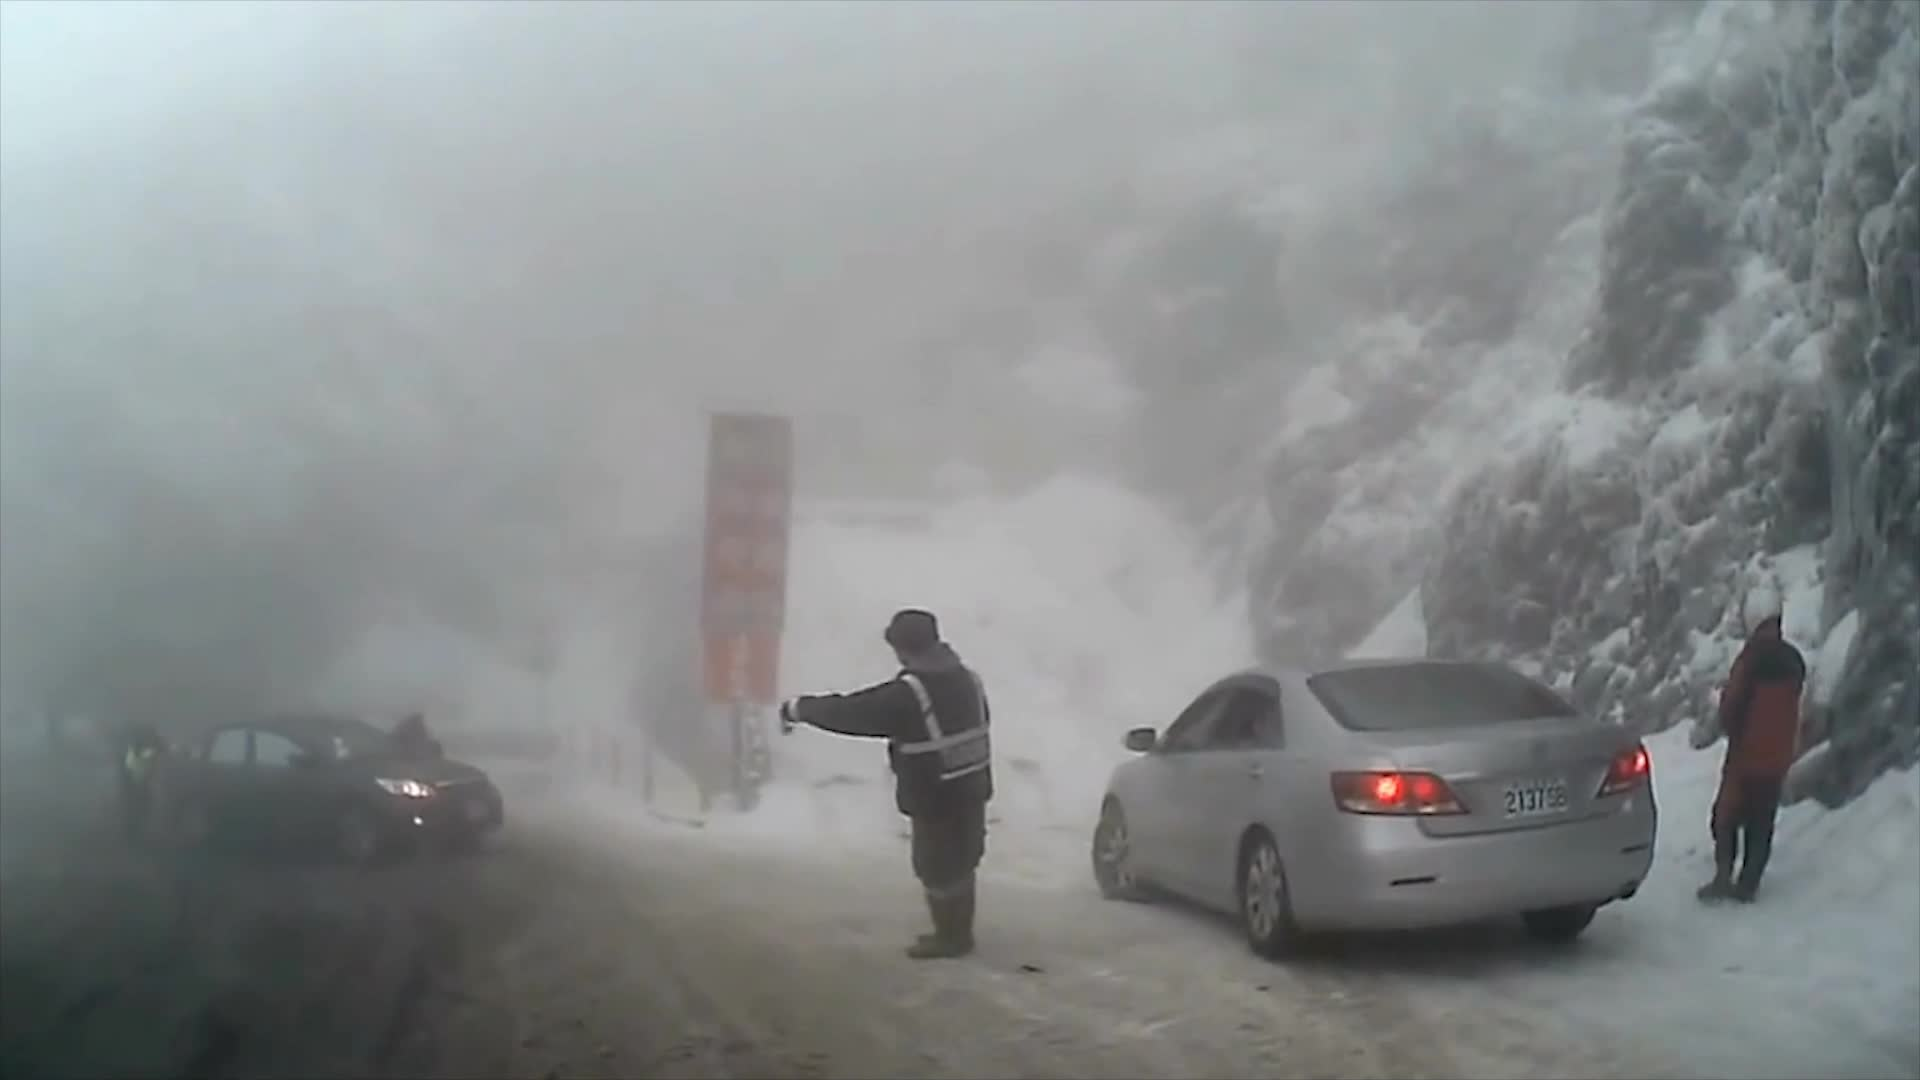pedestrian: (781, 598, 999, 946), (1699, 587, 1809, 905)
vehicle: (1087, 654, 1655, 958), (153, 706, 504, 867)
